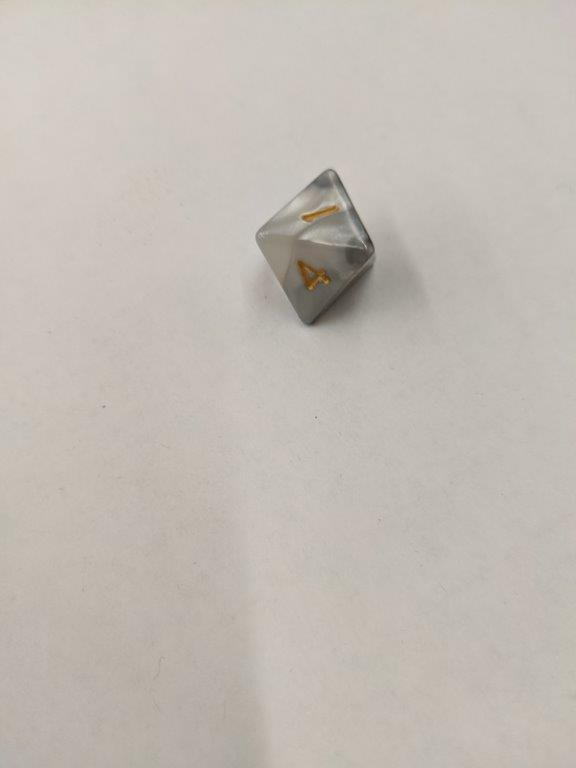d8-1: (253, 167, 378, 326)
